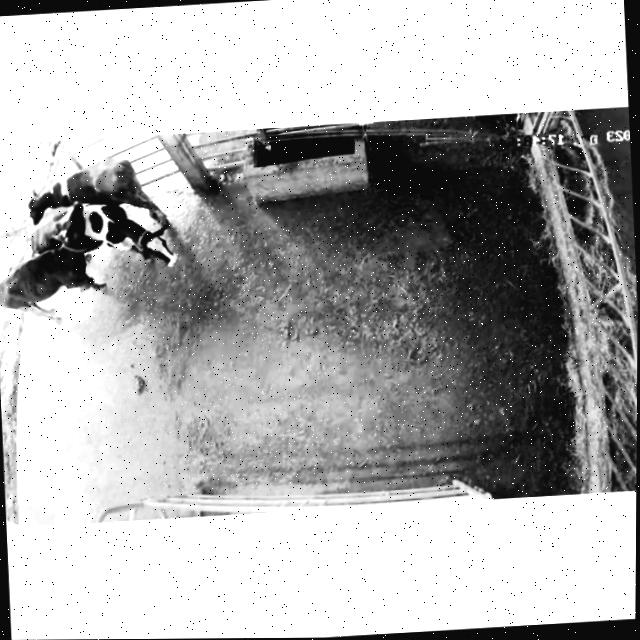propping: (51, 198, 96, 266)
stand: (24, 196, 194, 281), (12, 149, 173, 232)
